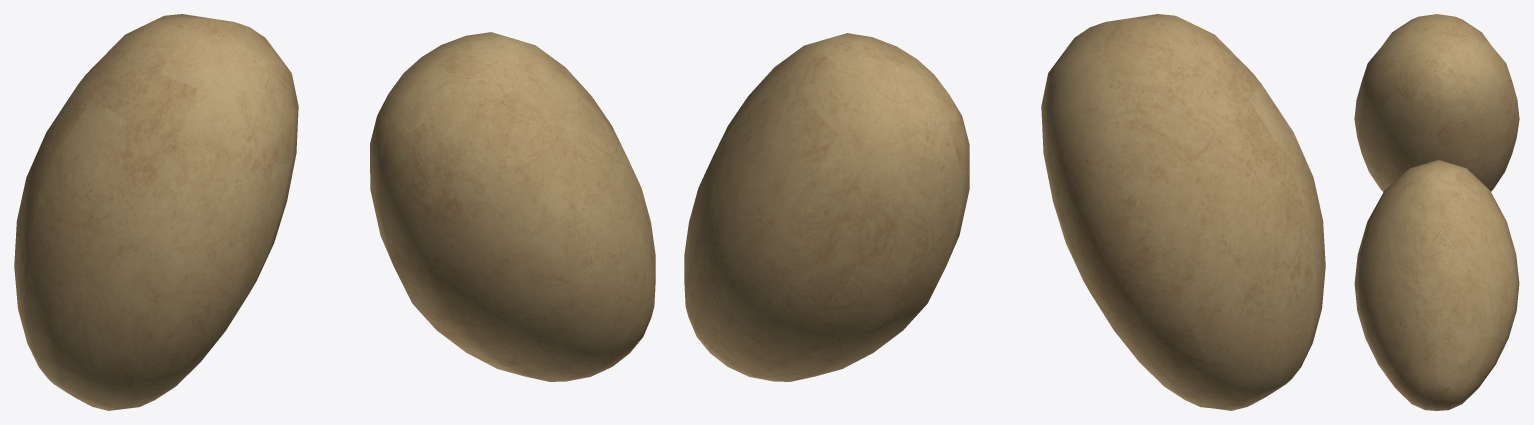
Rendered from Testis.fbx.
3 views of the same model, side by side, from view 1: azimuth 30°, elevation 25°; view 2: azimuth 150°, elevation 25°; view 3: azimuth 270°, elevation 25° (orthographic). The views are drawn at different scales.
Visible parts, largest first — view 1: Testis; view 2: Testis; view 3: Testis.
Part boxes in pixels (x1=…): Testis: x1=14, y1=14, x2=655, y2=410; Testis: x1=684, y1=14, x2=1325, y2=410; Testis: x1=1354, y1=14, x2=1519, y2=410.
Bounding box in the file's own units: 134 × 92.04 × 50.52.
